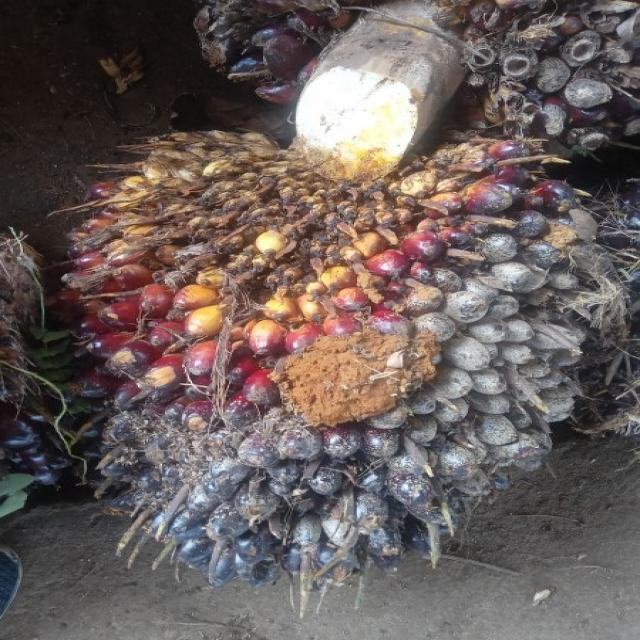fraksi 00: (77, 127, 599, 610)
